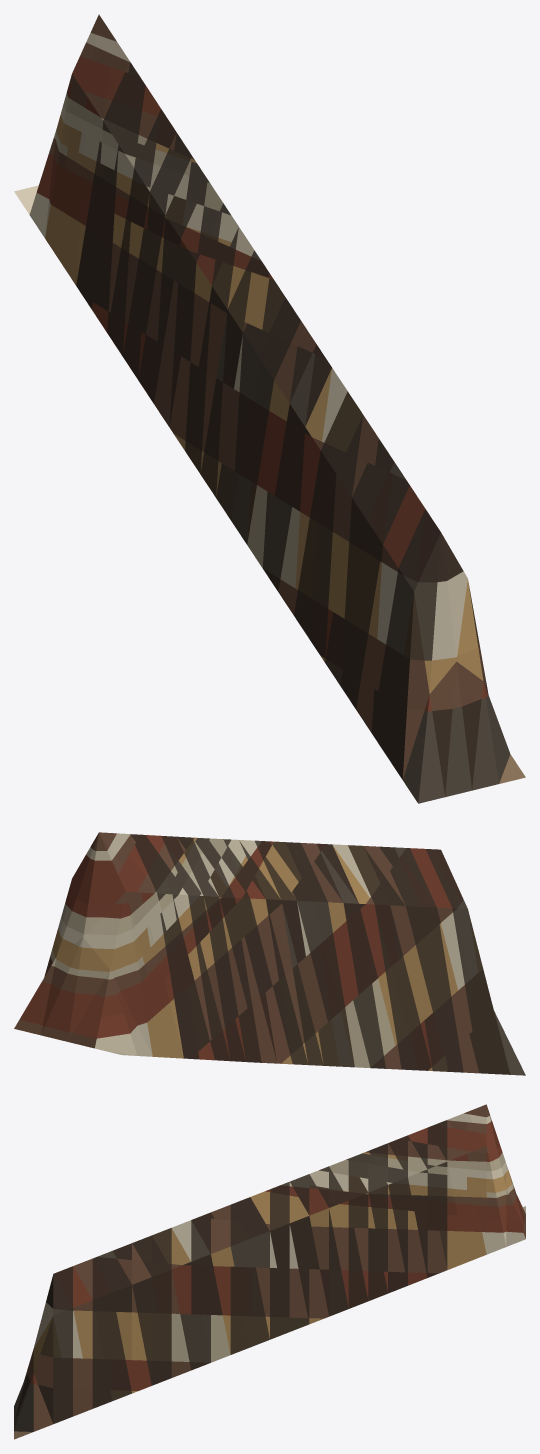
File: dam_eye_chute_east.glb
3 views of the same model, one above another, from view 1: azimuth 30°, elevation 25°; view 2: azimuth 150°, elevation 25°; view 3: azimuth 270°, elevation 25° (orthographic). The views are drawn at different scales.
Parts seen in each view (by area): view 1: dam_eye_chute_east; view 2: dam_eye_chute_east; view 3: dam_eye_chute_east.
Boxes of the visible parts, x1,y1,x2,y2 form: dam_eye_chute_east: (14,14,525,803); dam_eye_chute_east: (14,832,525,1075); dam_eye_chute_east: (14,1104,525,1439).
Size of the model in its own units: 8 by 35.72 by 52.
